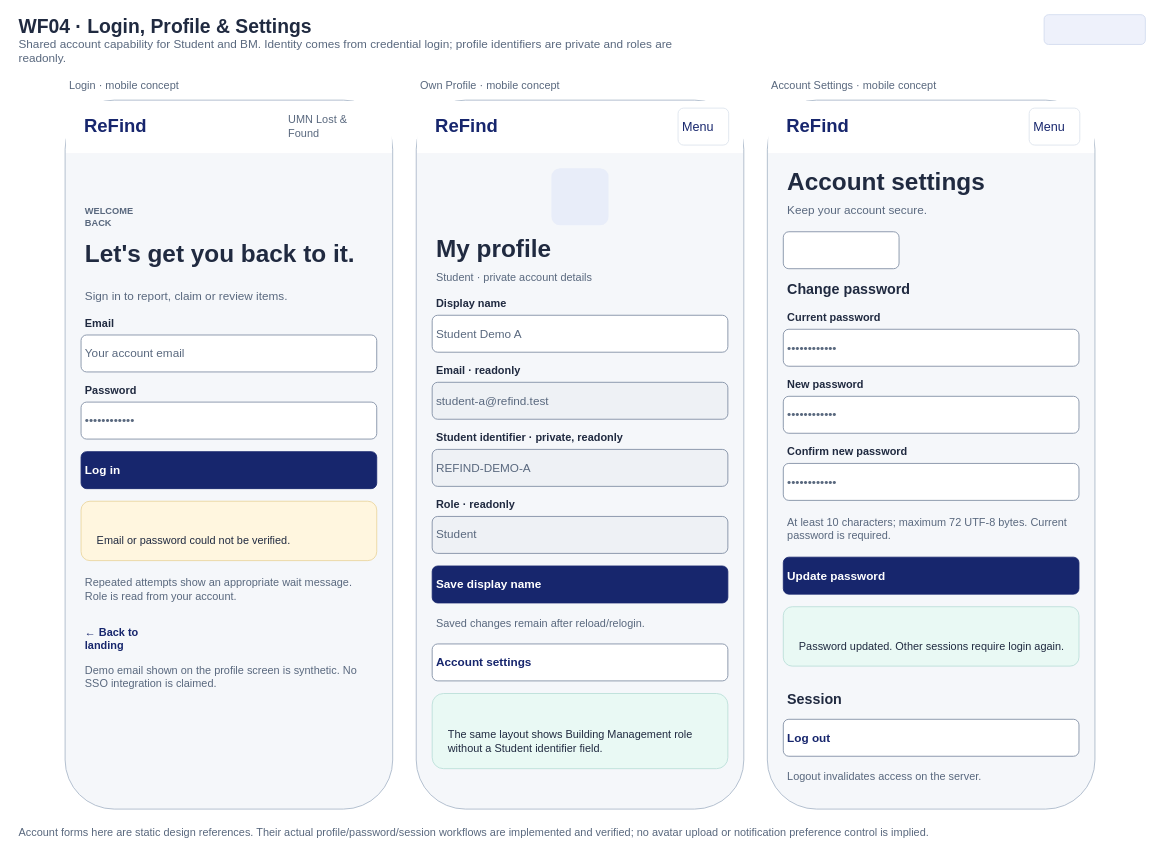
Image size: 1160x854. Some labels were removed from this diagram. Each missing label, with the box of its shape:
Back to my profile: (782, 231, 899, 269)
CONCEPT / UX01: (1043, 14, 1145, 44)
SA: (551, 168, 608, 225)
